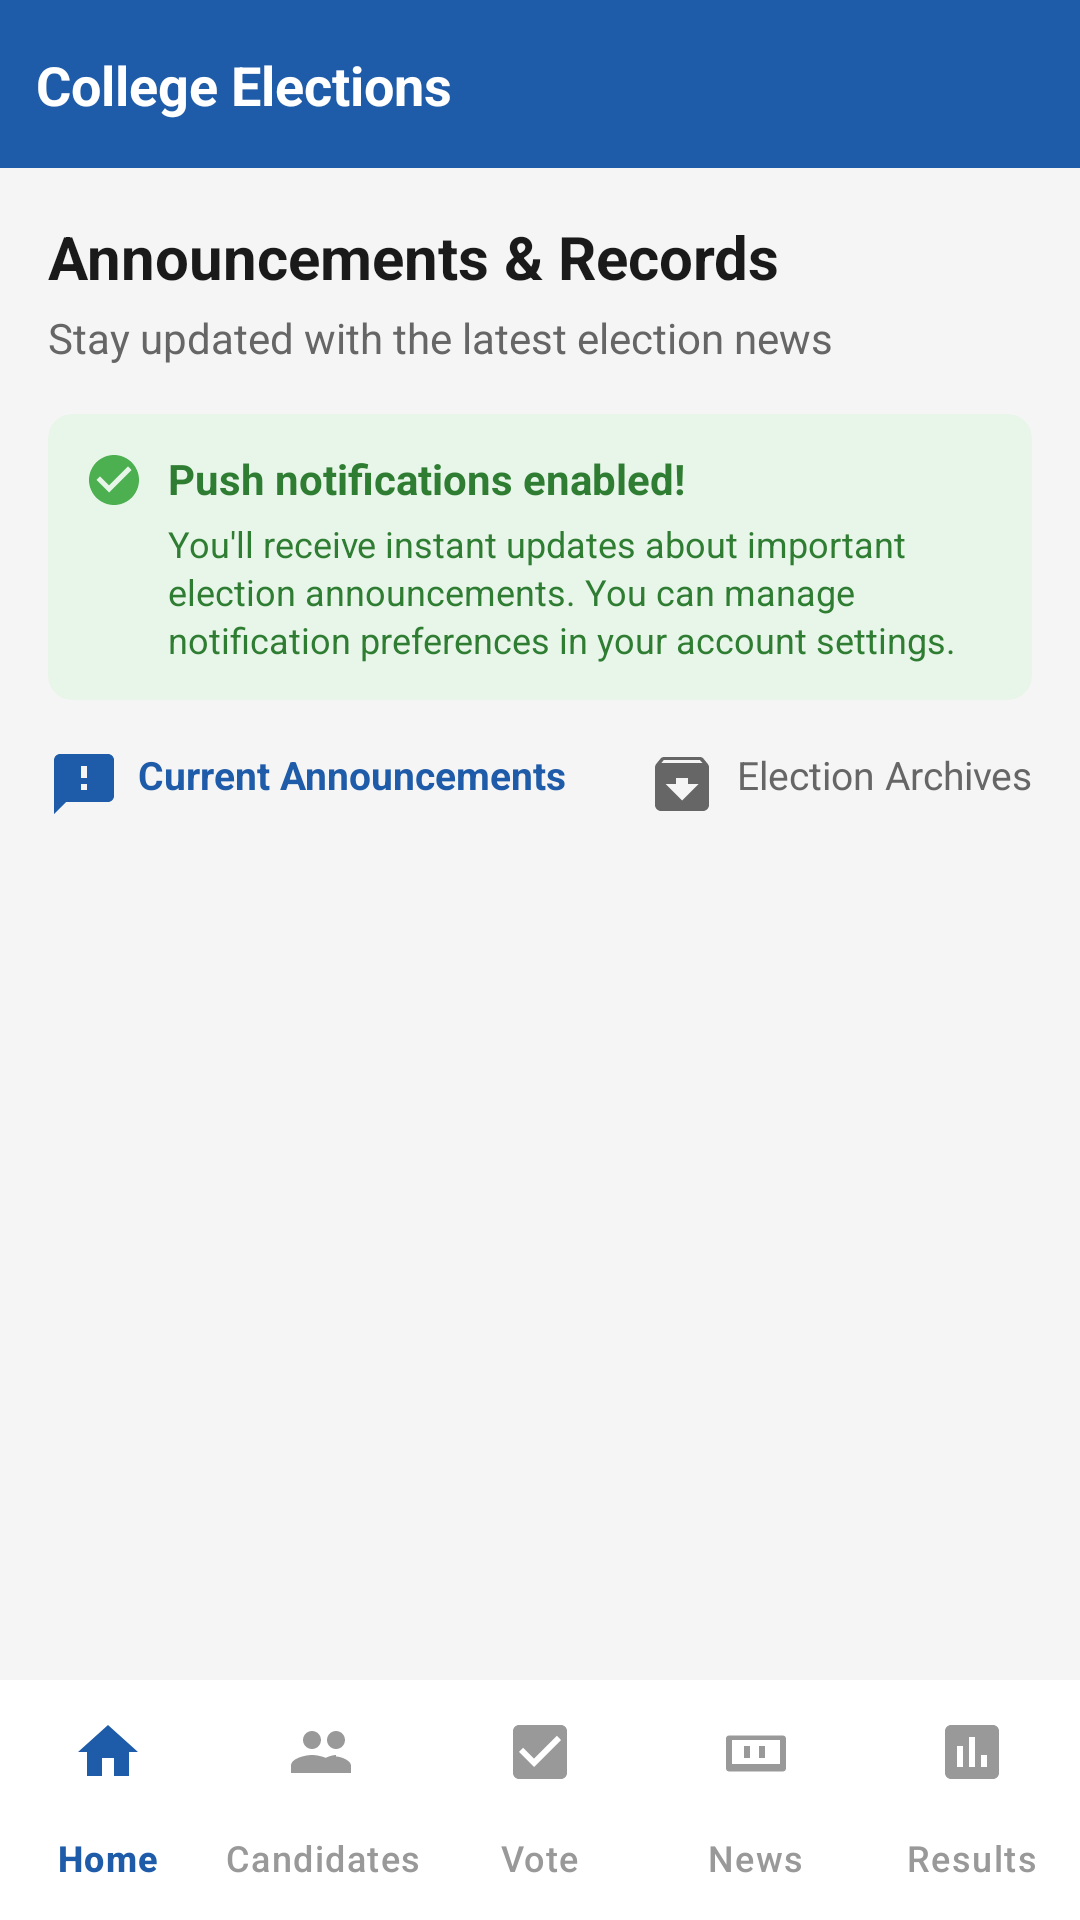

Where icons sit on this 1080w x 1920h app screen, as (x1, y1, x2, y2):
check circle: (89, 455, 139, 505)
